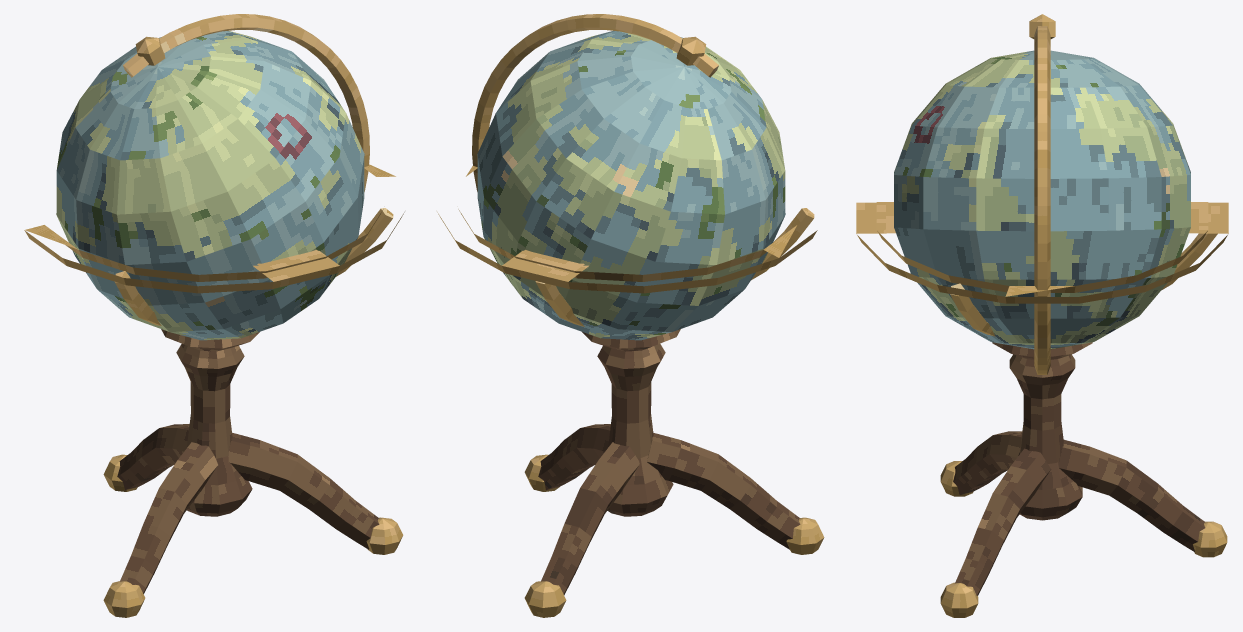
File: floor_globe.glb
The picture shows the model from 3 angles, left to right: view 1: azimuth 30°, elevation 25°; view 2: azimuth 150°, elevation 25°; view 3: azimuth 270°, elevation 25°; orthographic projection. The views are drawn at different scales.
Visible parts, largest first — view 1: globe, static; view 2: globe, static; view 3: globe, static.
Boxes of the visible parts, x1,y1,x2,y2 form: globe: [56, 30, 364, 340]; static: [24, 14, 404, 617]; globe: [477, 30, 785, 340]; static: [437, 14, 824, 617]; globe: [894, 50, 1190, 349]; static: [856, 14, 1228, 617].
Size of the model in its own units: 0.925 by 1.41 by 0.925.
Materials: 1 (1 with a texture image).
